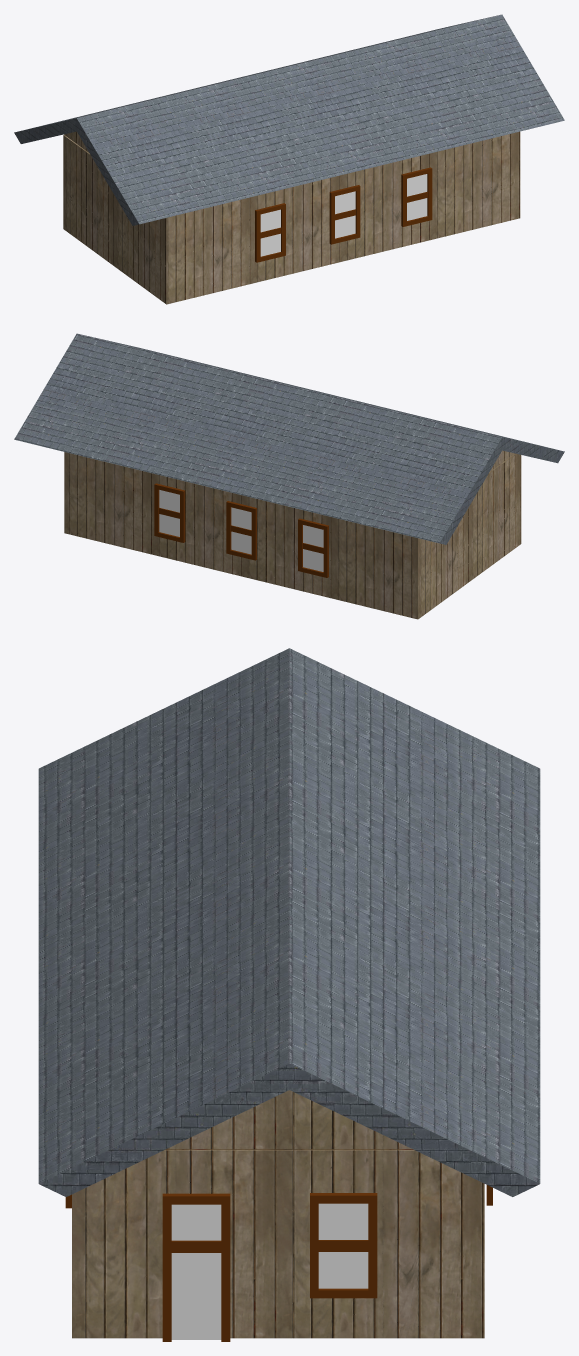
File: Large_Building.glb
3 renders of one model, top to bottom at view 1: azimuth 30°, elevation 25°; view 2: azimuth 150°, elevation 25°; view 3: azimuth 270°, elevation 25°, orthographic. The views are drawn at different scales.
Visible parts, largest first — view 1: mergedBlocks(Clone); view 2: mergedBlocks(Clone); view 3: mergedBlocks(Clone).
Boxes of the visible parts, <box> form: mergedBlocks(Clone): <box>14,14,564,304</box>; mergedBlocks(Clone): <box>14,333,564,619</box>; mergedBlocks(Clone): <box>38,648,540,1341</box>.
Bounding box in the file's own units: 4.74 × 1.65 × 2.42.
Materials: 4 (2 with a texture image).
